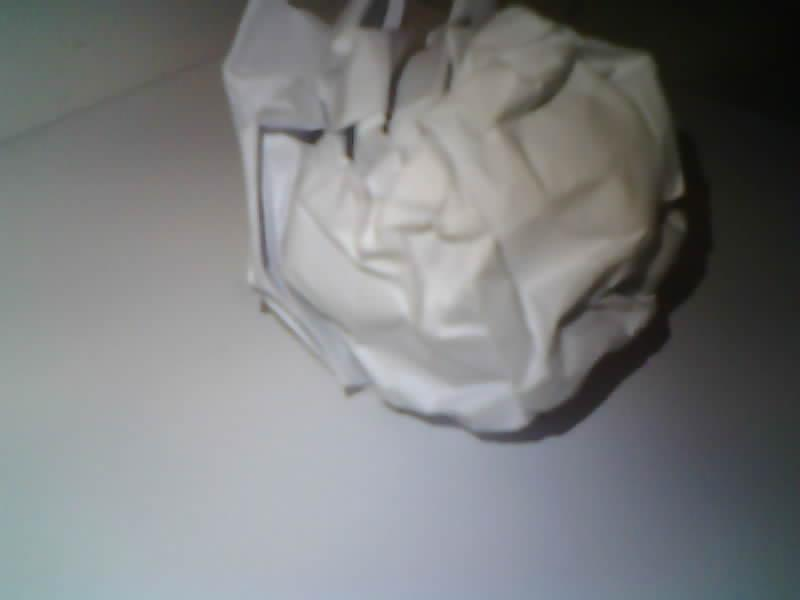biodegradable: (224, 0, 688, 434)
